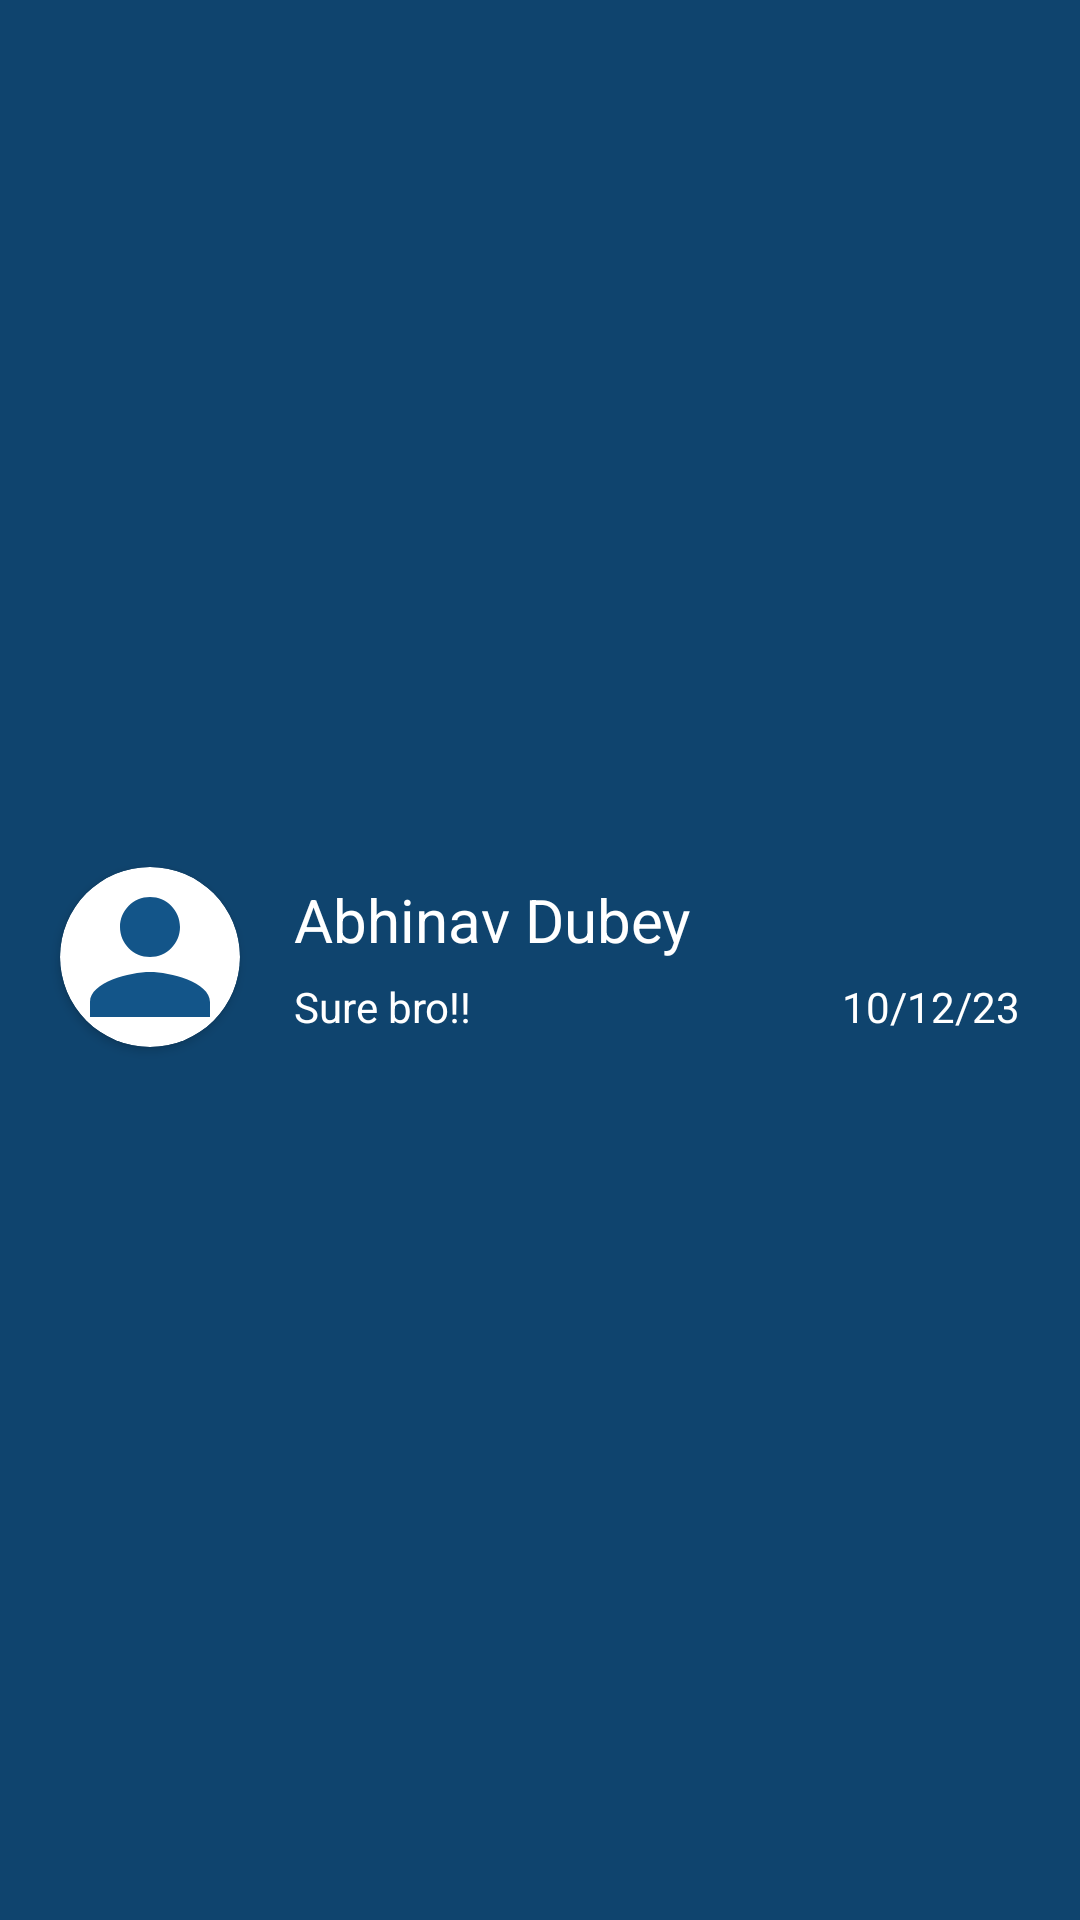

Icon click points for this 1080 x 1920 phone screenshot, format (x,y):
person: (150,957)
